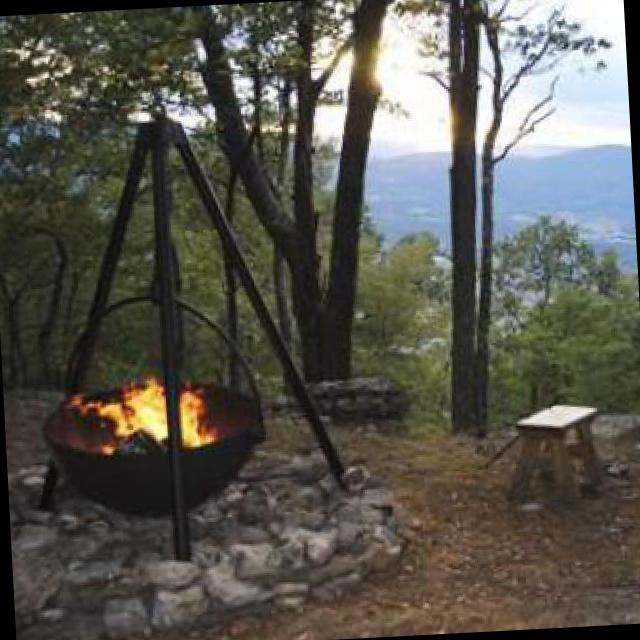Fire: (94, 360, 219, 468)
